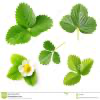Strawberry leaf: (29, 12, 55, 38), (4, 22, 32, 46), (15, 1, 36, 29), (70, 3, 88, 28), (59, 14, 78, 34), (77, 15, 98, 33), (60, 70, 82, 87), (66, 55, 83, 74), (6, 64, 25, 81), (79, 57, 95, 76), (22, 68, 37, 87), (38, 49, 55, 65), (9, 54, 29, 67), (42, 40, 55, 52), (51, 51, 62, 65)
